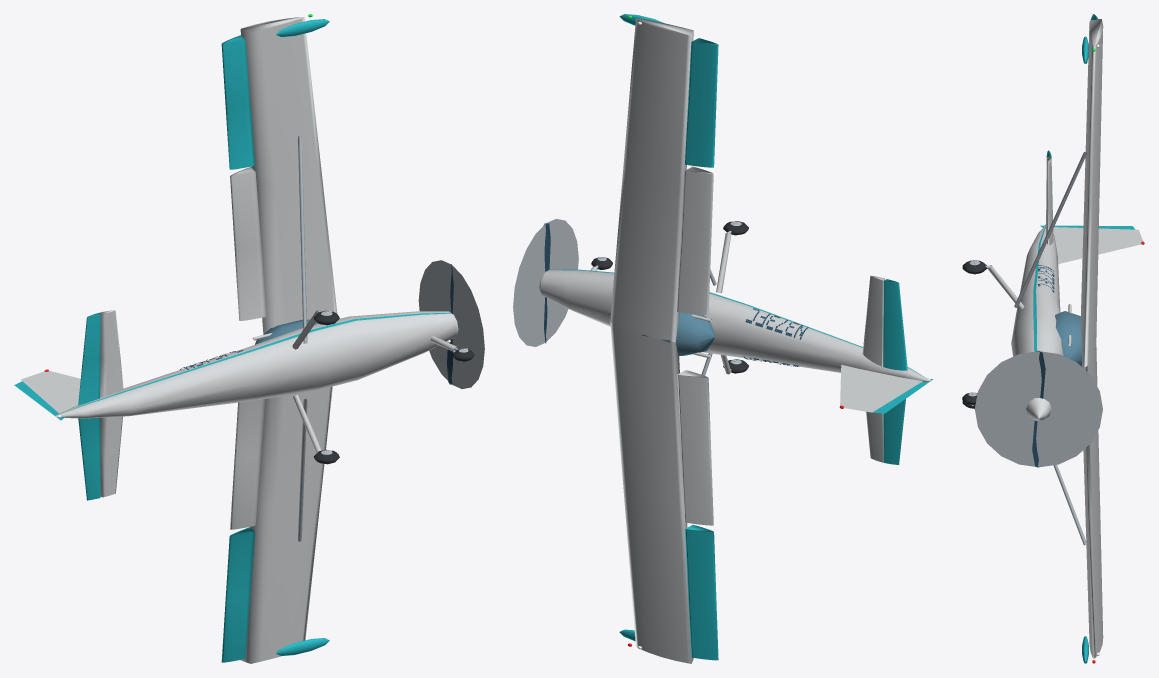
Rendered from exterior-lod1.glb.
The picture shows the model from 3 angles, left to right: view 1: azimuth 30°, elevation 25°; view 2: azimuth 150°, elevation 25°; view 3: azimuth 270°, elevation 25°; orthographic projection. The views are drawn at different scales.
Parts seen in each view (by area): view 1: airframe, wing_right, wing_left, prop_blur, flaps_right, flaps_left, aileron_right, aileron_left, stabilizer_right, elevator_right, vertical_stabilizer, stabilizer_left (+1 smaller); view 2: wing_right, wing_left, airframe, prop_blur, flaps_left, flaps_right, aileron_left, aileron_right, vertical_stabilizer, elevator_right, stabilizer_right, canopy (+2 smaller); view 3: prop_blur, airframe, wing_right, wing_left, vertical_stabilizer, canopy, stabilizer_right, spinner, propeller.
Boxes of the visible parts, x1,y1,x2,y2 form: airframe: (55,136,457,541); wing_right: (240,17,337,334); wing_left: (240,386,332,663); prop_blur: (418,260,484,388); flaps_right: (230,167,266,320); flaps_left: (230,399,265,529); aileron_right: (221,35,254,169); aileron_left: (221,527,255,662); stabilizer_right: (99,310,123,396); elevator_right: (78,313,100,405); vertical_stabilizer: (21,371,80,413); stabilizer_left: (100,416,122,497); wing_right: (610,18,693,342); wing_left: (610,322,693,663); airframe: (540,233,929,382); prop_blur: (513,219,578,346); flaps_left: (677,370,713,525); flaps_right: (677,166,713,314); aileron_left: (685,524,718,660); aileron_right: (685,38,718,167); vertical_stabilizer: (840,364,922,412); elevator_right: (883,279,907,370); stabilizer_right: (862,275,884,366); canopy: (642,312,714,355); prop_blur: (975,351,1102,467); airframe: (988,152,1086,545); wing_right: (1080,19,1103,366); wing_left: (1081,345,1103,658); vertical_stabilizer: (1053,227,1143,263); canopy: (1055,311,1095,366); stabilizer_right: (1046,157,1053,245); spinner: (1026,398,1051,420); propeller: (1032,350,1045,467).
Size of the model in its own units: 6.81 by 10.05 by 2.7.
